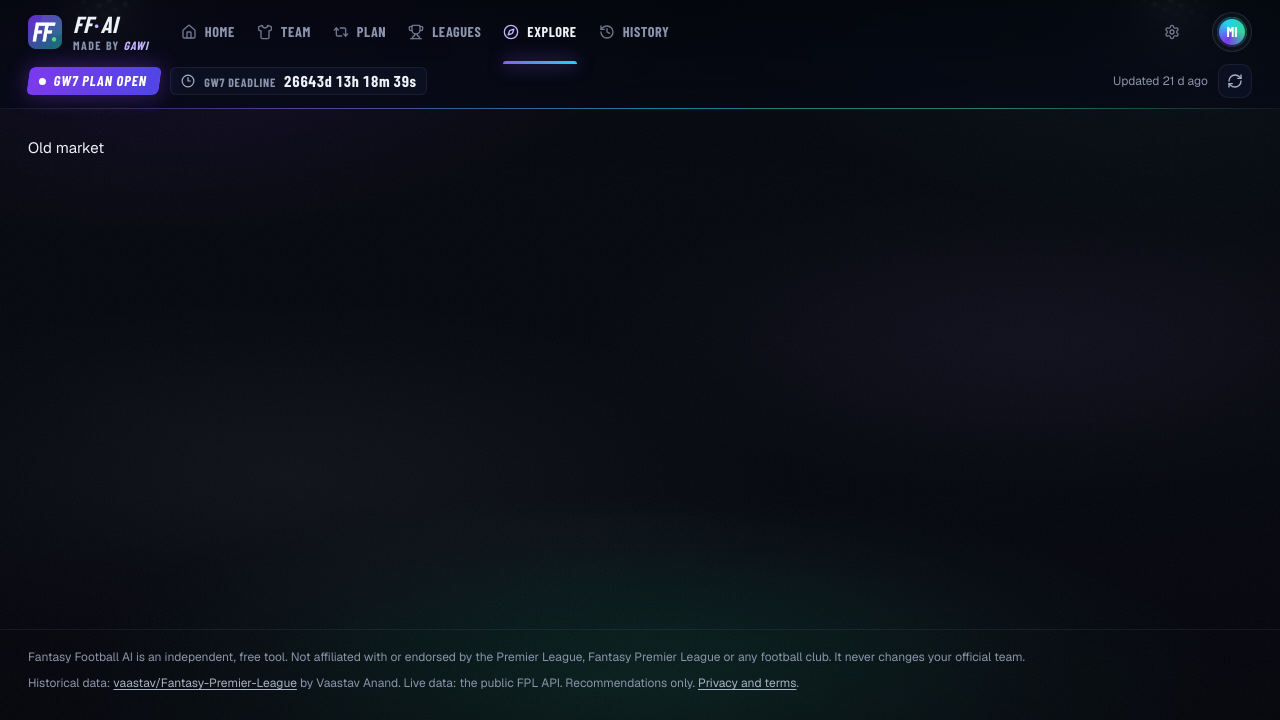
the shell refresh updates mounted page resources as well as the dashboard
Check: the text "Old market" is shown, box [28,138,104,157]
Click the button named "Refresh data": (1235, 81) [1218,64,1252,98]
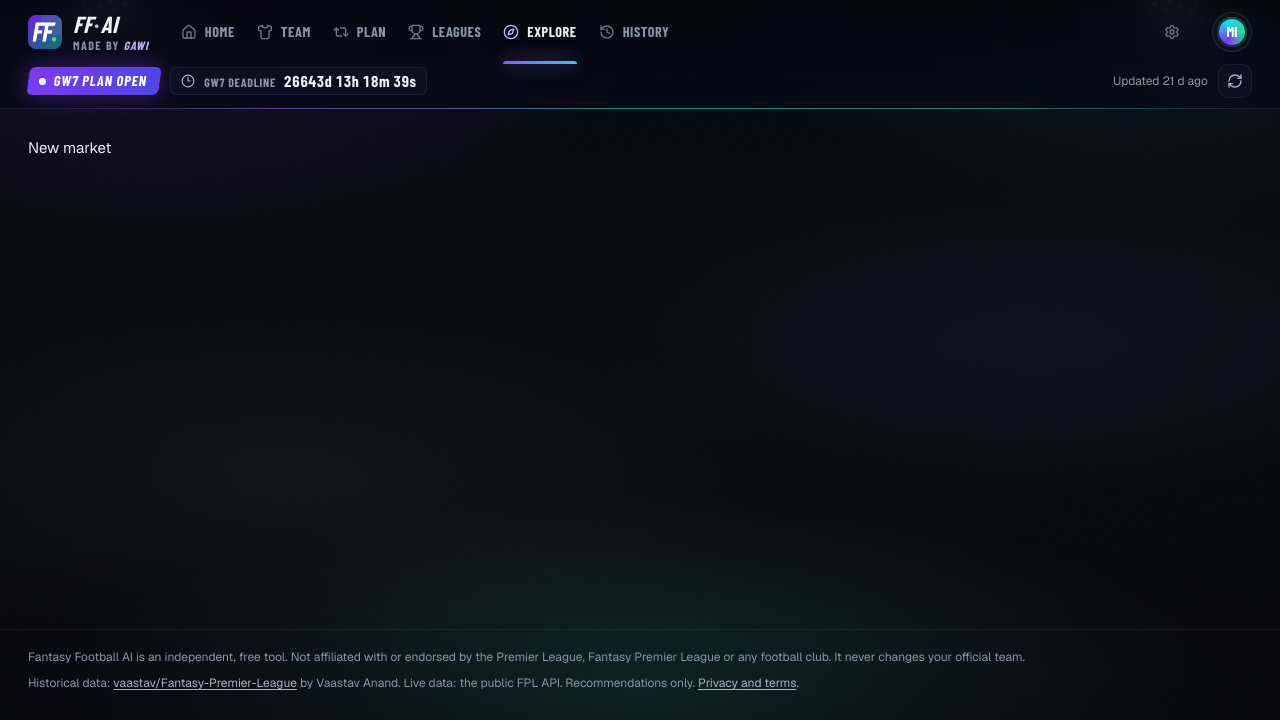
Check: the text "New market" is shown, box [28,138,112,157]
